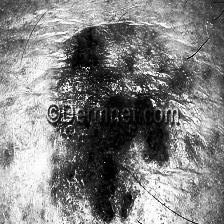Benign Marking or Mole: (57, 124, 134, 222), (60, 26, 119, 106)
